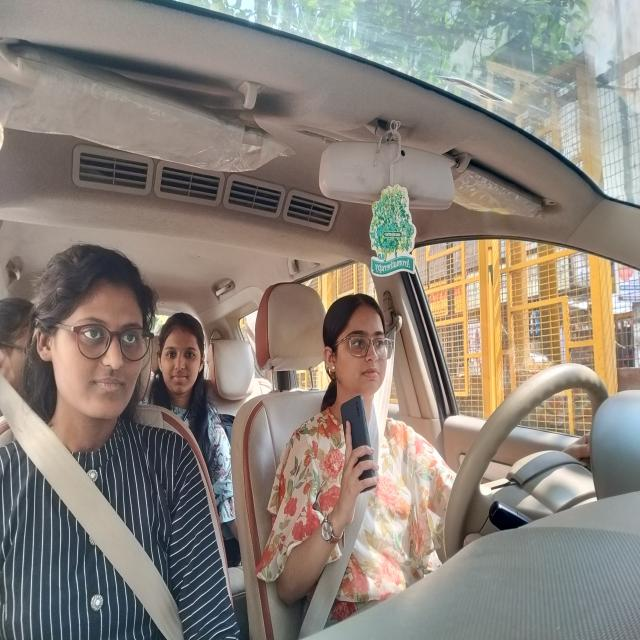mobile: (335, 382, 382, 504)
person: (25, 229, 157, 444), (318, 281, 412, 404), (162, 299, 215, 425)
